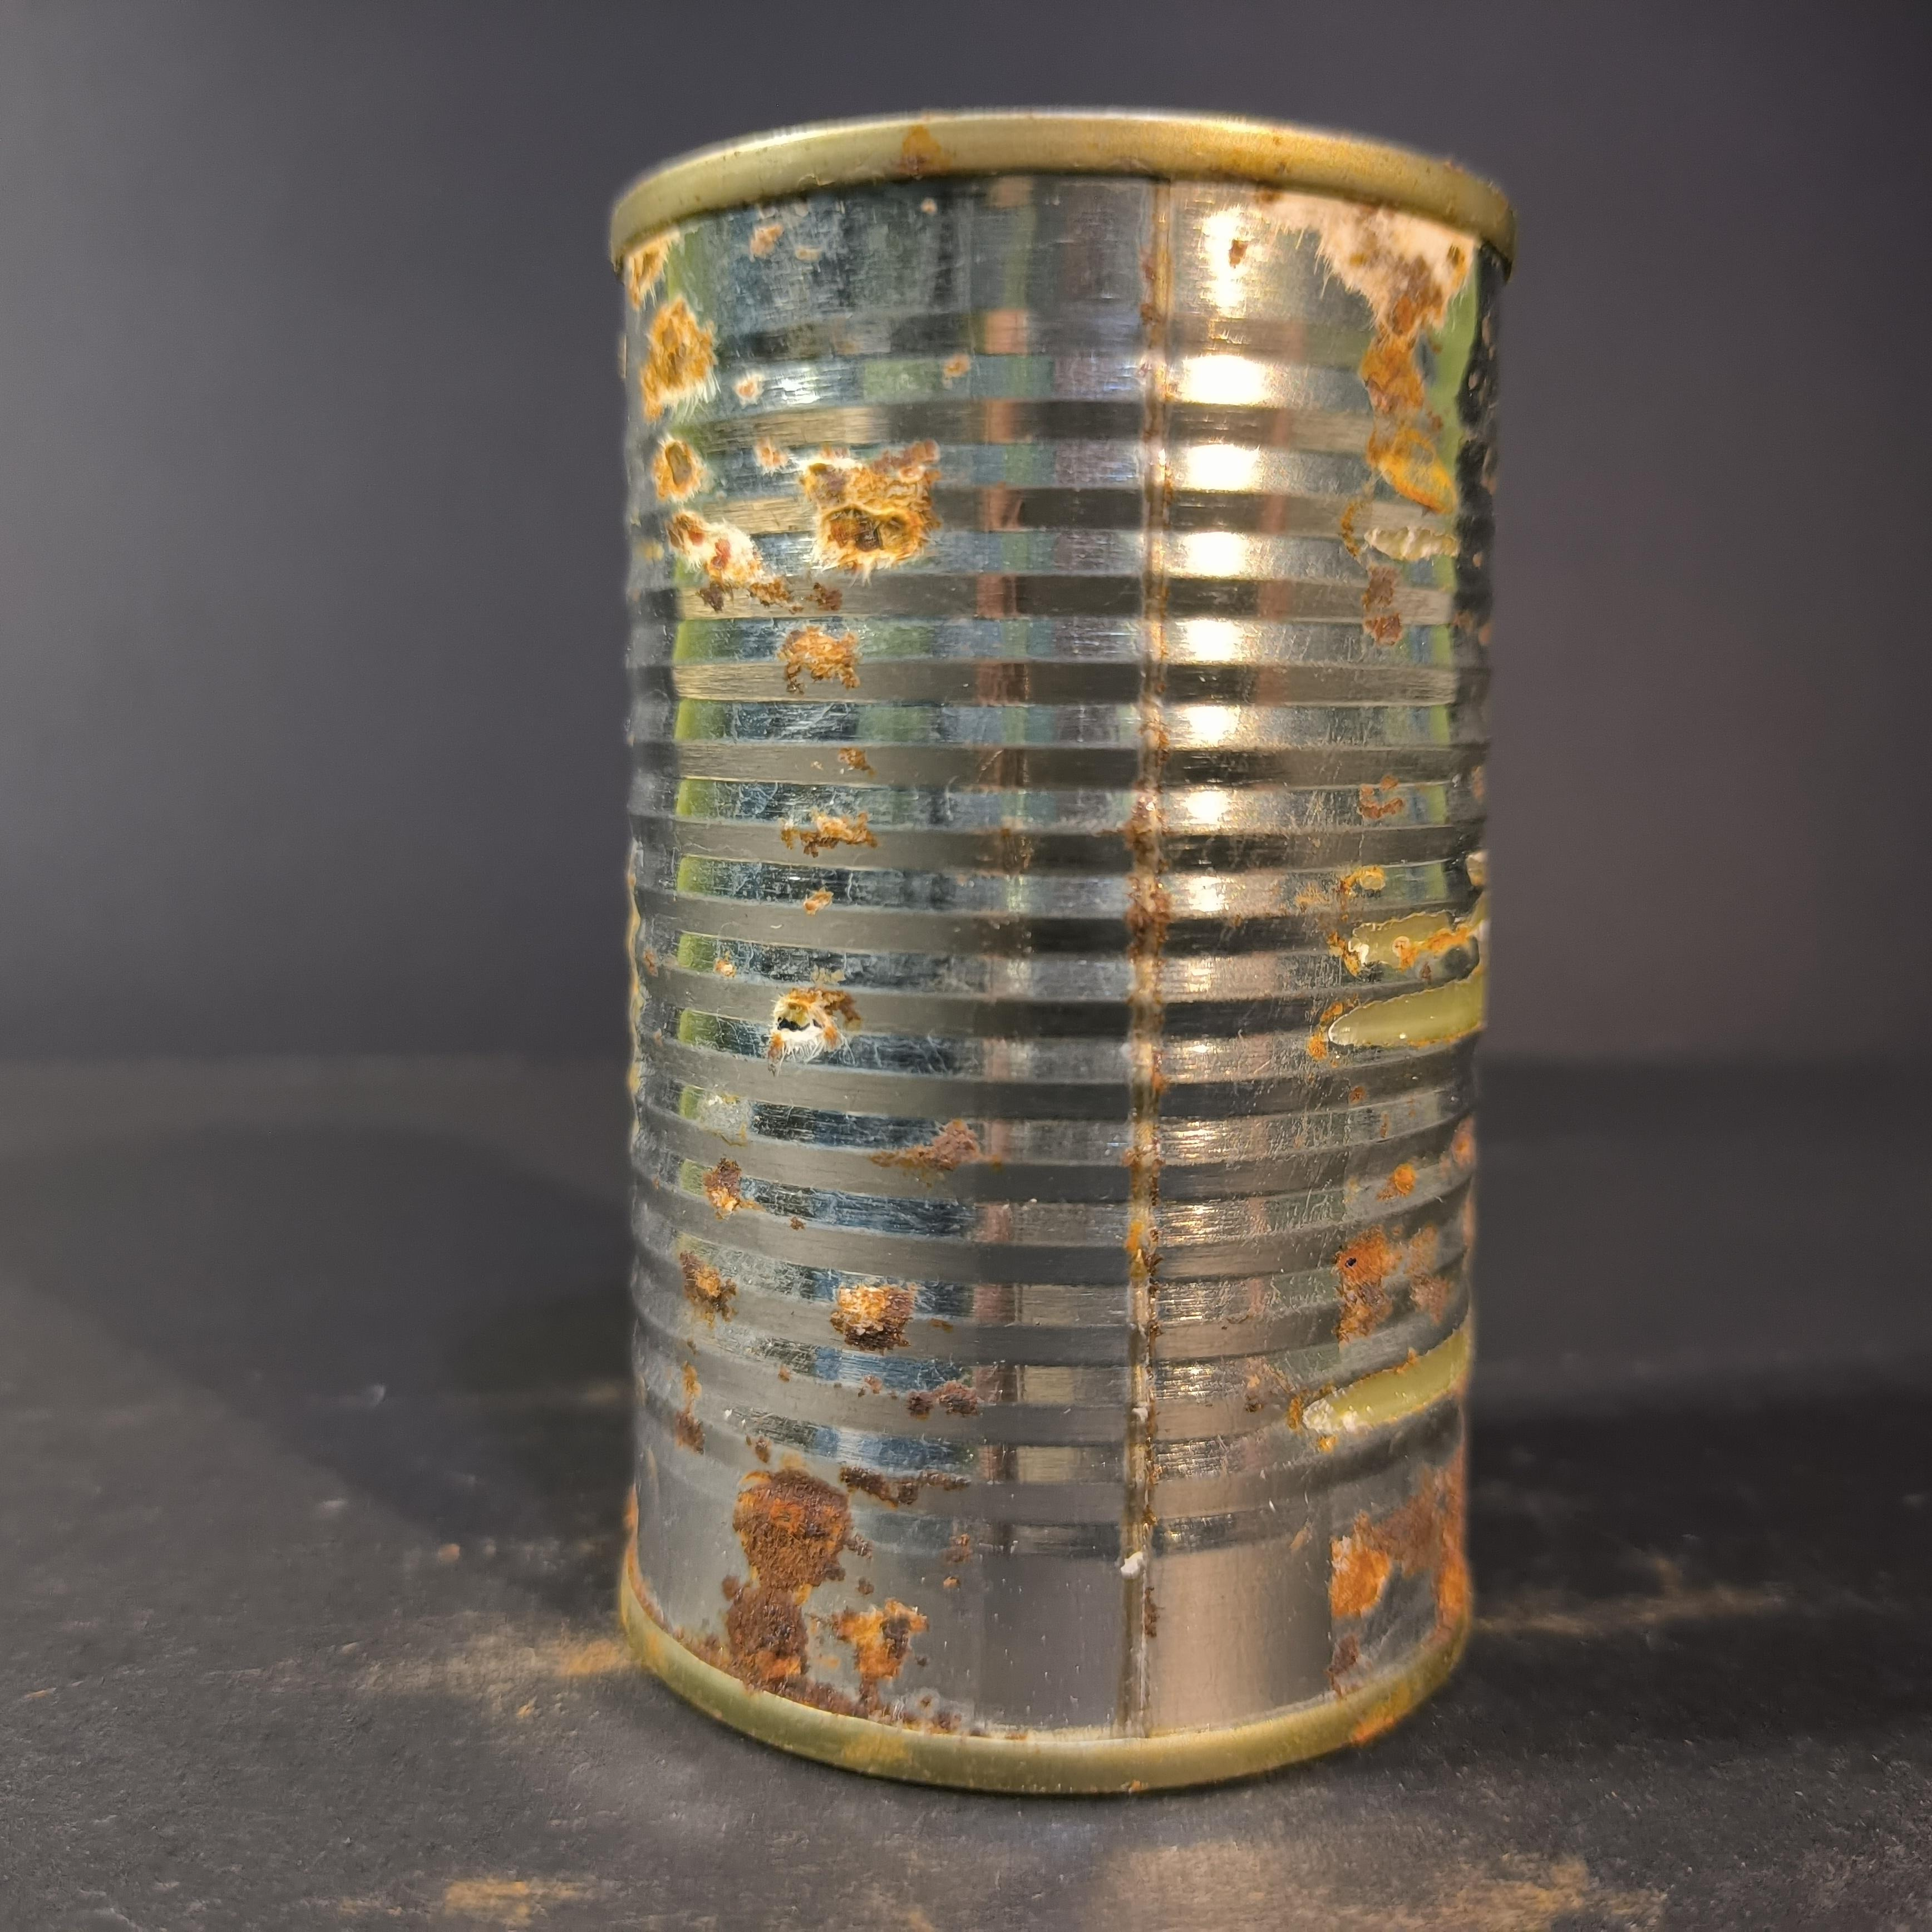Rusted: (582, 74, 1536, 1799)
